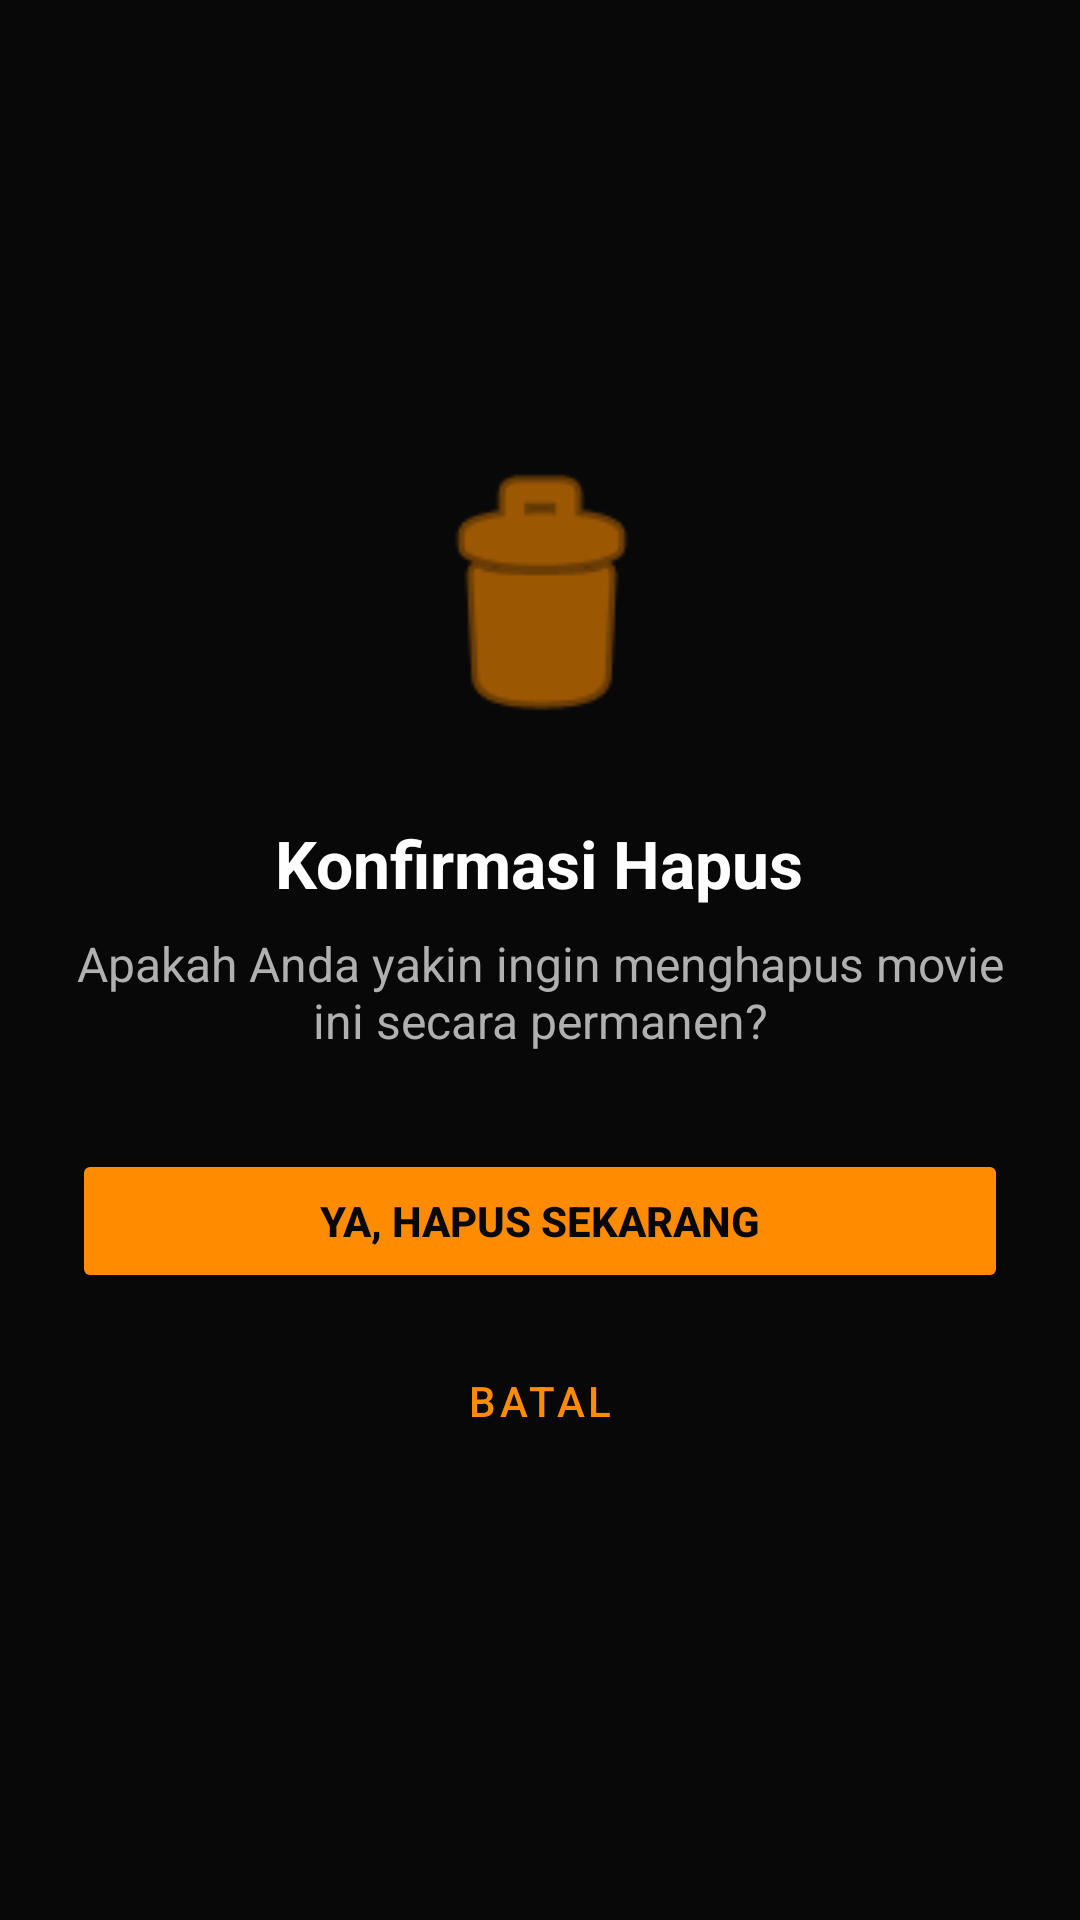

Named icons in this screenshot (1080 × 1920) and their centers, (x,y):
Delete Icon: (541,592)
